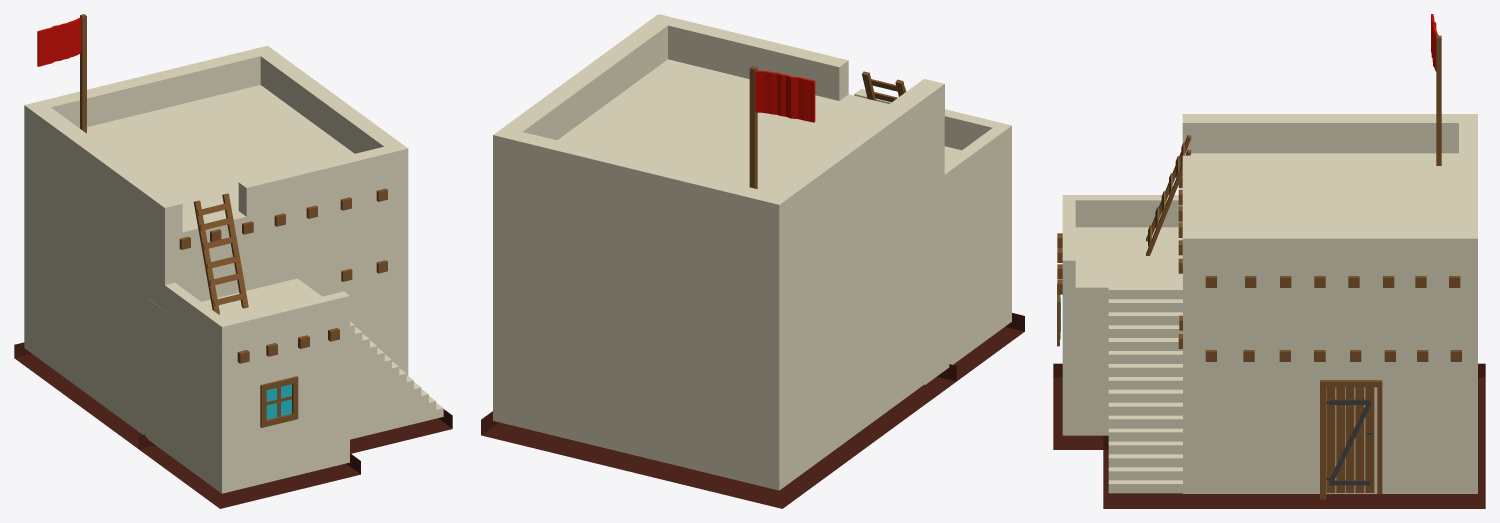
The model's file is housedone.fbx.
3 renders of one model, left to right at view 1: azimuth 30°, elevation 25°; view 2: azimuth 150°, elevation 25°; view 3: azimuth 270°, elevation 25°, orthographic. The views are drawn at different scales.
Visible parts, largest first — view 1: Cube; view 2: Cube; view 3: Cube.
Part boxes in pixels (<box>): Cube: <box>14,14,452,508</box>; Cube: <box>481,14,1024,508</box>; Cube: <box>1053,14,1485,508</box>.
Bounding box in the file's own units: 201 × 259 × 278.
